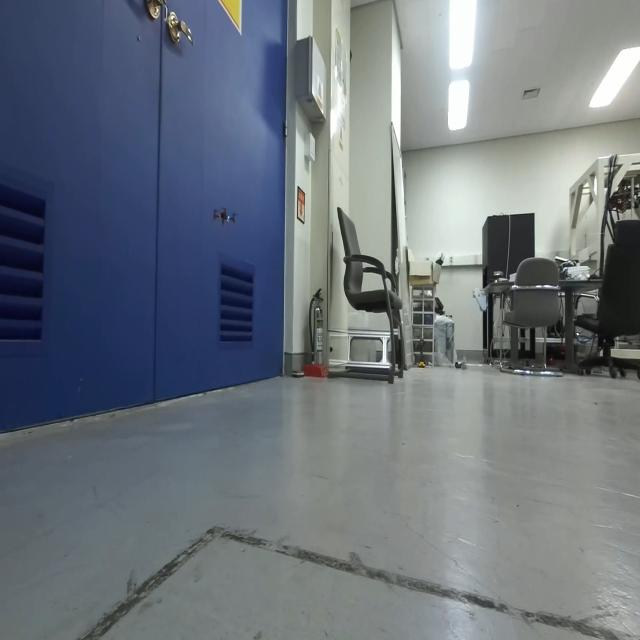crazyflie: (210, 198, 240, 234)
